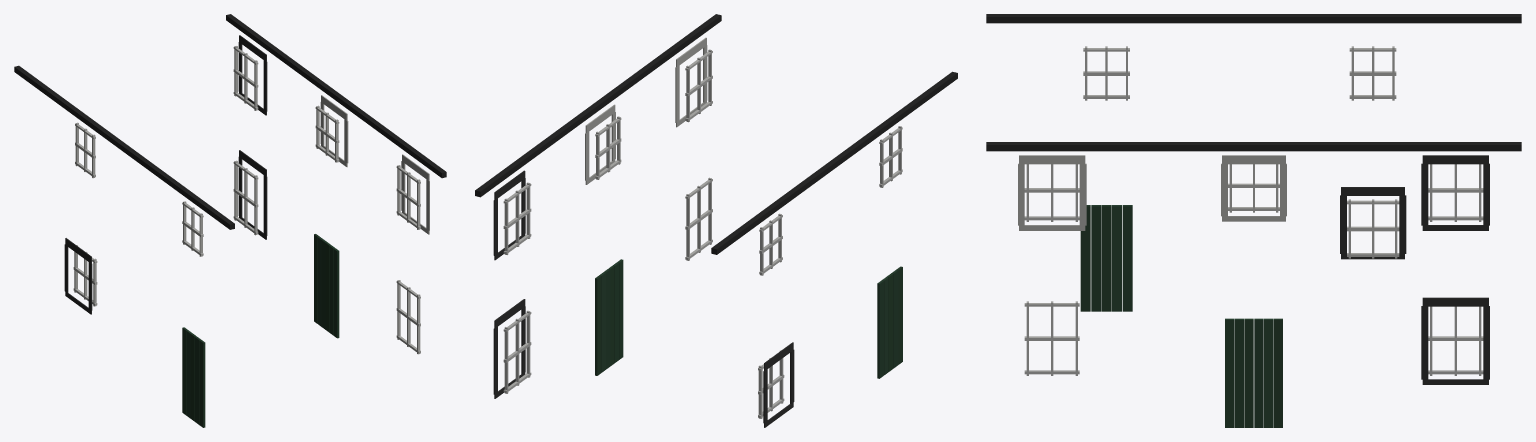
The model's file is SM_Bld_155_Wood.glb.
3 views of the same model, side by side, from view 1: azimuth 30°, elevation 25°; view 2: azimuth 150°, elevation 25°; view 3: azimuth 270°, elevation 25° (orthographic). The views are drawn at different scales.
Visible parts, largest first — view 1: SM_Bld_155_Wood; view 2: SM_Bld_155_Wood; view 3: SM_Bld_155_Wood.
Boxes of the visible parts, x1=… form: SM_Bld_155_Wood: x1=14, y1=14, x2=446, y2=427; SM_Bld_155_Wood: x1=475, y1=14, x2=957, y2=427; SM_Bld_155_Wood: x1=986, y1=14, x2=1521, y2=427.
Bounding box in the file's own units: 5.34 × 5.5 × 9.21.
